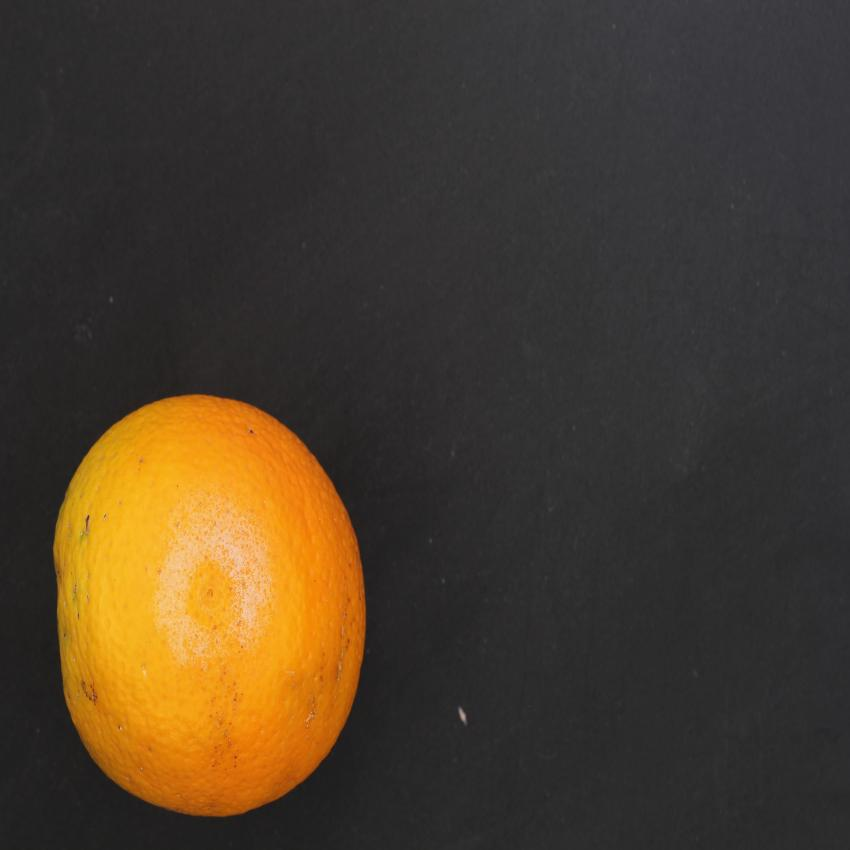Mal estado: (47, 385, 378, 826)
